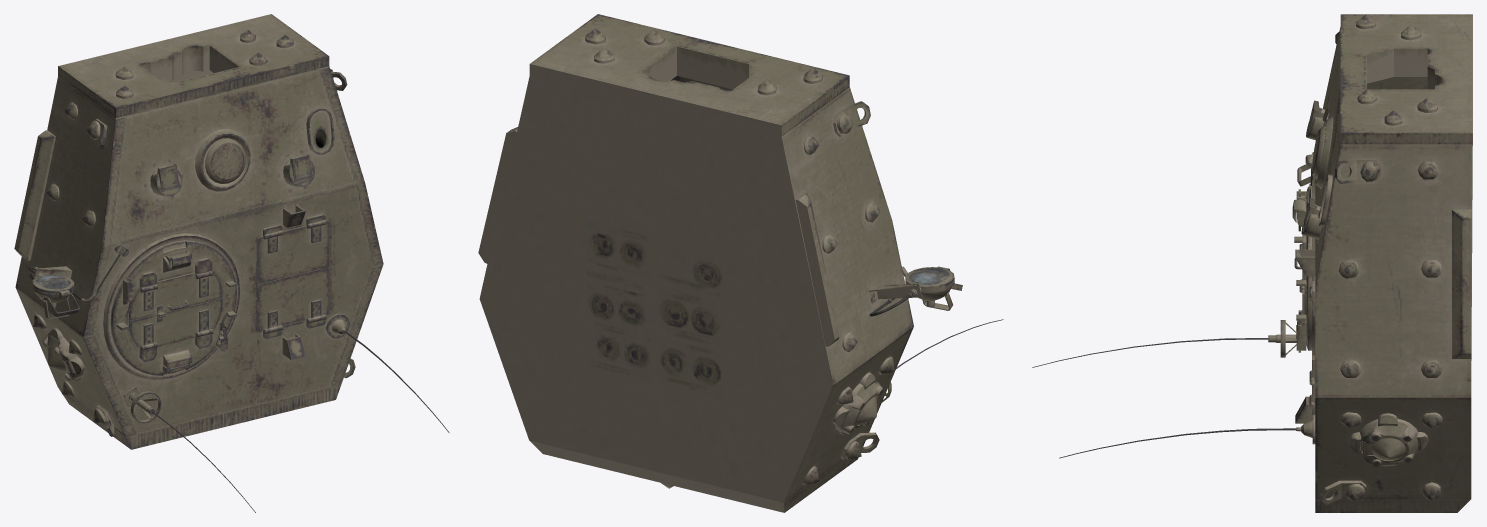
Rendered from Turret_01.glb.
3 views of the same model, side by side, from view 1: azimuth 30°, elevation 25°; view 2: azimuth 150°, elevation 25°; view 3: azimuth 270°, elevation 25° (orthographic). The views are drawn at different scales.
Parts seen in each view (by area): view 1: set_0_group_0; view 2: set_0_group_0; view 3: set_0_group_0.
Part boxes in pixels (x1=…): set_0_group_0: x1=14, y1=14, x2=449, y2=512; set_0_group_0: x1=478, y1=14, x2=1003, y2=512; set_0_group_0: x1=1032, y1=14, x2=1472, y2=512.
Bounding box in the file's own units: 2.18 × 2.13 × 2.11.
Materials: 1 (1 with a texture image).
